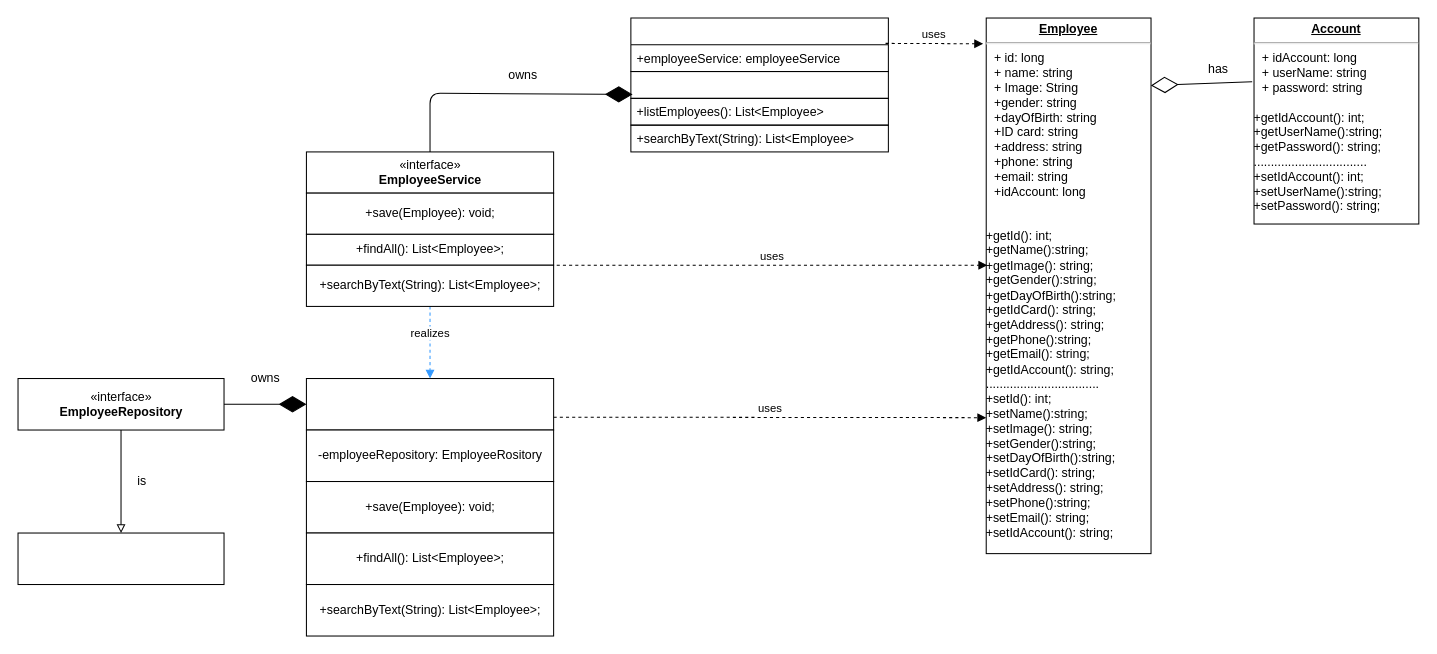
Some shapes in this 1437 by 654 pixel diagram are drawn without their labels. The box of each missing label's shape, as (x1, y1, x2, y2) in pixels:
+createEmployee(Employee): void: (630, 71, 888, 98)
EmployeeController: (630, 17, 888, 72)
EmployeeServiceImpl: (305, 377, 554, 430)
«interface» JpaRepository: (17, 532, 224, 585)
